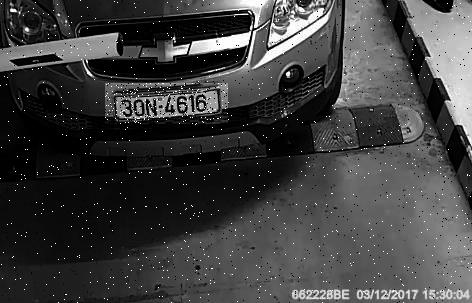License-plate: (107, 84, 231, 125)
